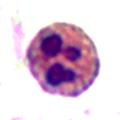neutrophil: (25, 22, 101, 98)
